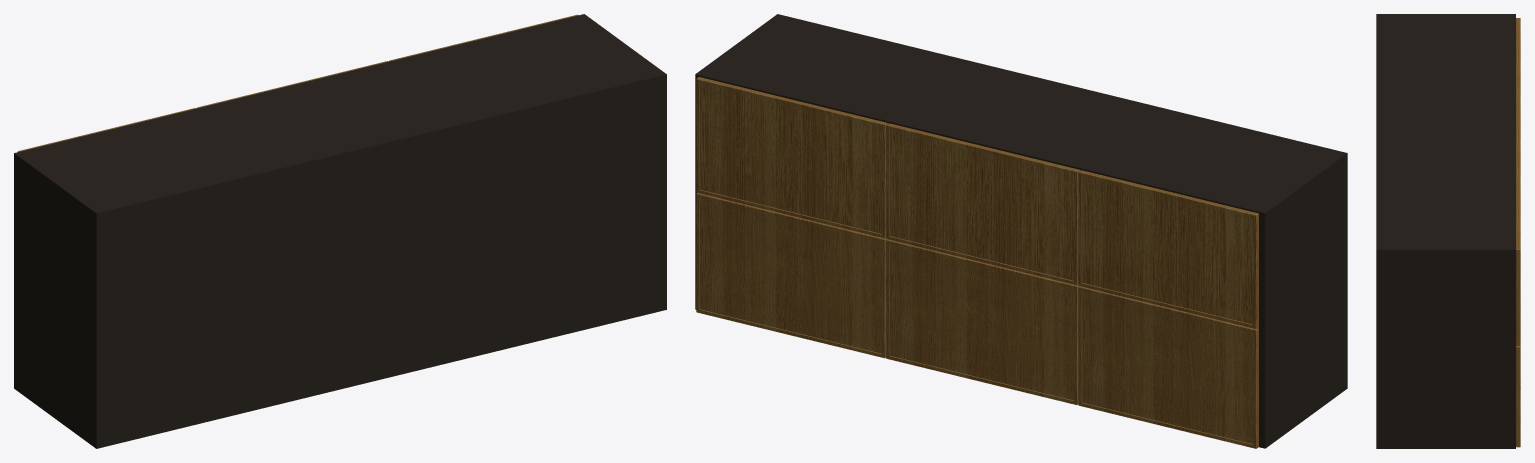
Rendered from rangements hauteur cafet2.obj.
3 renders of one model, left to right at view 1: azimuth 30°, elevation 25°; view 2: azimuth 150°, elevation 25°; view 3: azimuth 270°, elevation 25°, orthographic. The views are drawn at different scales.
Parts seen in each view (by area): view 1: Kitchen_cabinet_34_1, Kitchen_cabinet_34_30_2; view 2: Kitchen_cabinet_34_30_2, Kitchen_cabinet_34_1; view 3: Kitchen_cabinet_34_1, Kitchen_cabinet_34_30_2.
Boxes of the visible parts, box(x1,y1,x2,y2) form: Kitchen_cabinet_34_1: box(14, 14, 666, 448); Kitchen_cabinet_34_30_2: box(18, 14, 578, 151); Kitchen_cabinet_34_30_2: box(696, 77, 1258, 448); Kitchen_cabinet_34_1: box(695, 14, 1347, 448); Kitchen_cabinet_34_1: box(1376, 14, 1515, 448); Kitchen_cabinet_34_30_2: box(1516, 18, 1520, 447).
Size of the model in its own units: 201 by 79.3 by 52.
Materials: 2 (1 with a texture image).
